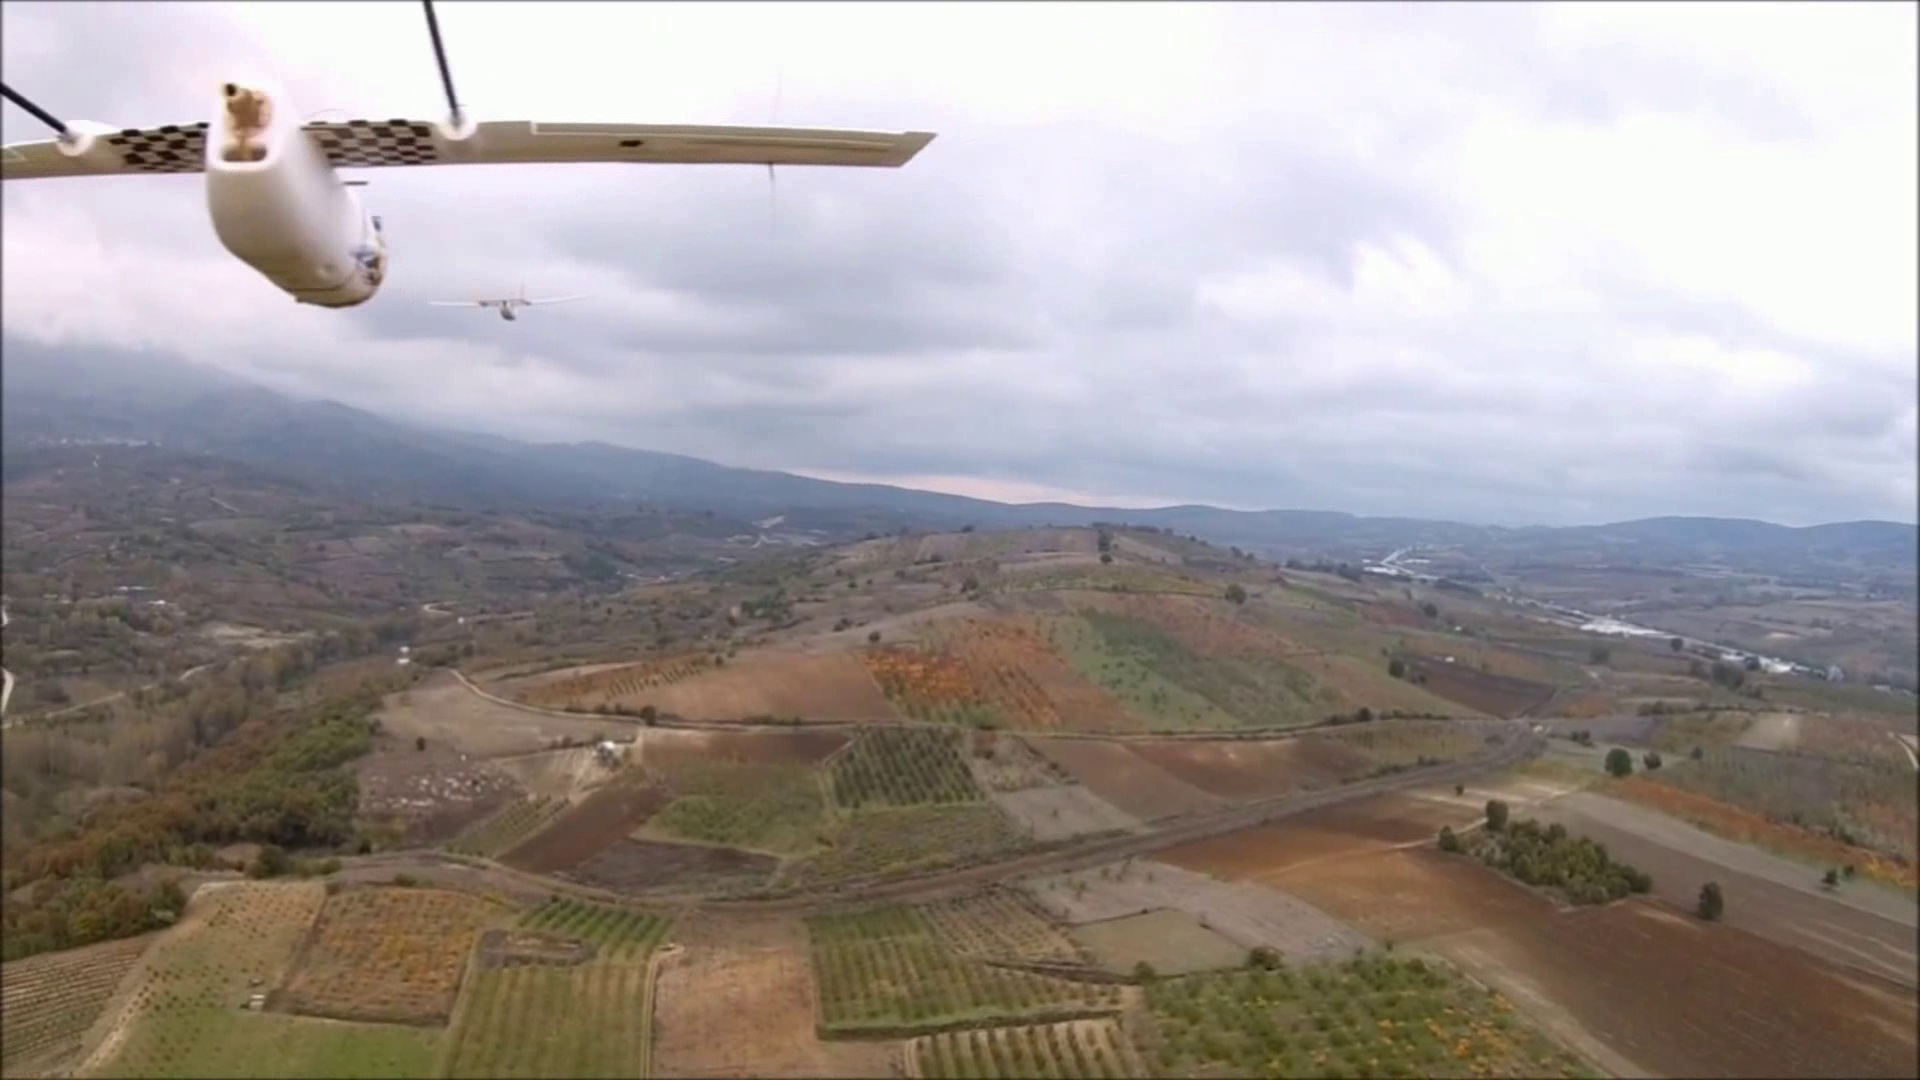airplane: (5, 5, 935, 313)
